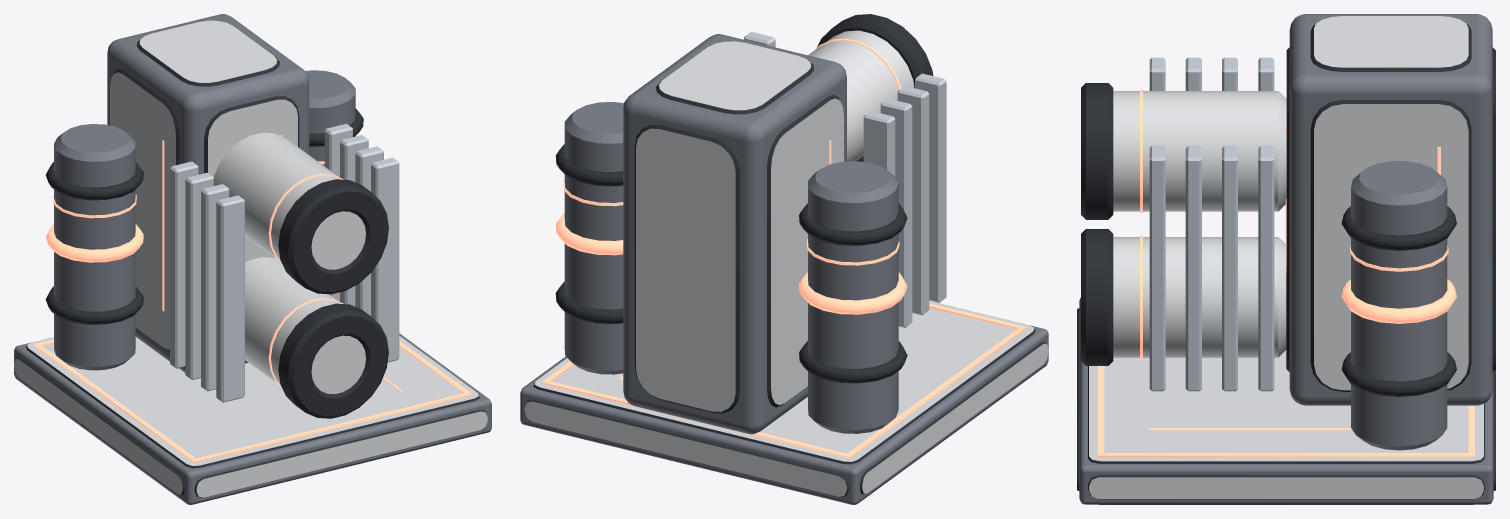
Rendered from R4X_DoubleShotOverdrive.fbx.
3 renders of one model, left to right at view 1: azimuth 30°, elevation 25°; view 2: azimuth 150°, elevation 25°; view 3: azimuth 270°, elevation 25°, orthographic. The views are drawn at different scales.
Parts seen in each view (by area): view 1: R4X_DoubleShotOverdrive_Body; view 2: R4X_DoubleShotOverdrive_Body; view 3: R4X_DoubleShotOverdrive_Body.
Part boxes in pixels (box(x1,y1,x2,y2)): R4X_DoubleShotOverdrive_Body: box(14, 14, 491, 504); R4X_DoubleShotOverdrive_Body: box(520, 14, 1048, 504); R4X_DoubleShotOverdrive_Body: box(1077, 14, 1495, 504).
Bounding box in the file's own units: 0.52 × 0.52 × 0.52.
